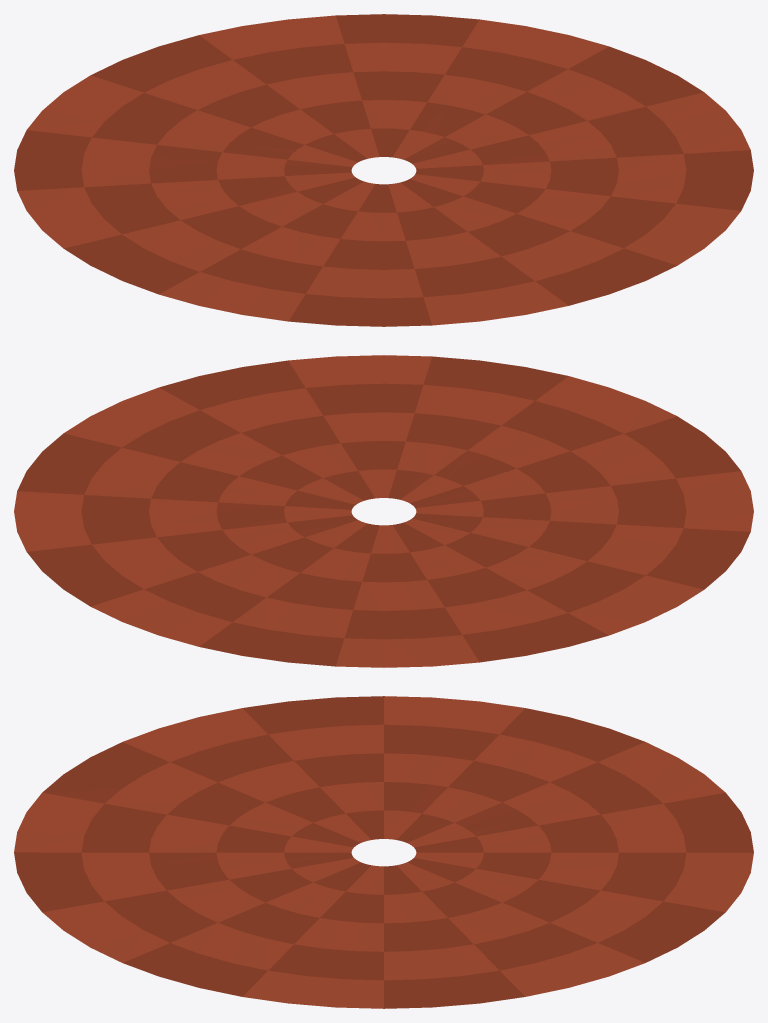
The model's file is W5_Ground_Skirt.fbx.
3 renders of one model, top to bottom at view 1: azimuth 30°, elevation 25°; view 2: azimuth 150°, elevation 25°; view 3: azimuth 270°, elevation 25°, orthographic.
Visible parts, largest first — view 1: W5_Ground_Skirt; view 2: W5_Ground_Skirt; view 3: W5_Ground_Skirt.
Boxes of the visible parts, x1,y1,x2,y2 form: W5_Ground_Skirt: [14, 14, 753, 326]; W5_Ground_Skirt: [14, 355, 753, 667]; W5_Ground_Skirt: [14, 696, 753, 1008].
Size of the model in its own units: 6400 by 2.26 by 6400.
